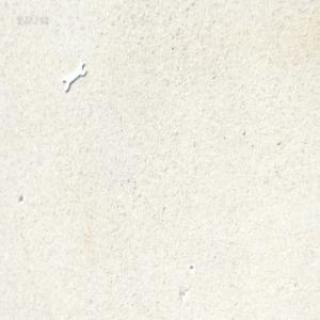Wrenchtrack_idkeyframe: (61, 58, 86, 92)
